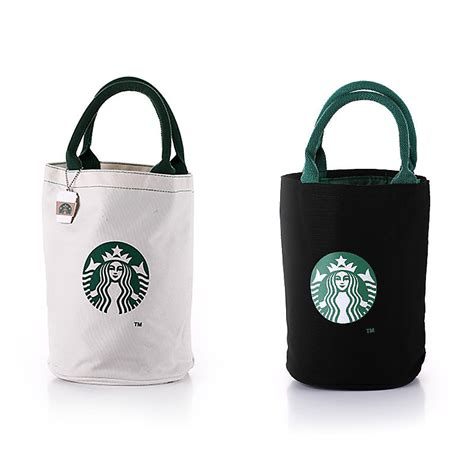flexible: (37, 76, 196, 387), (274, 78, 430, 393)
